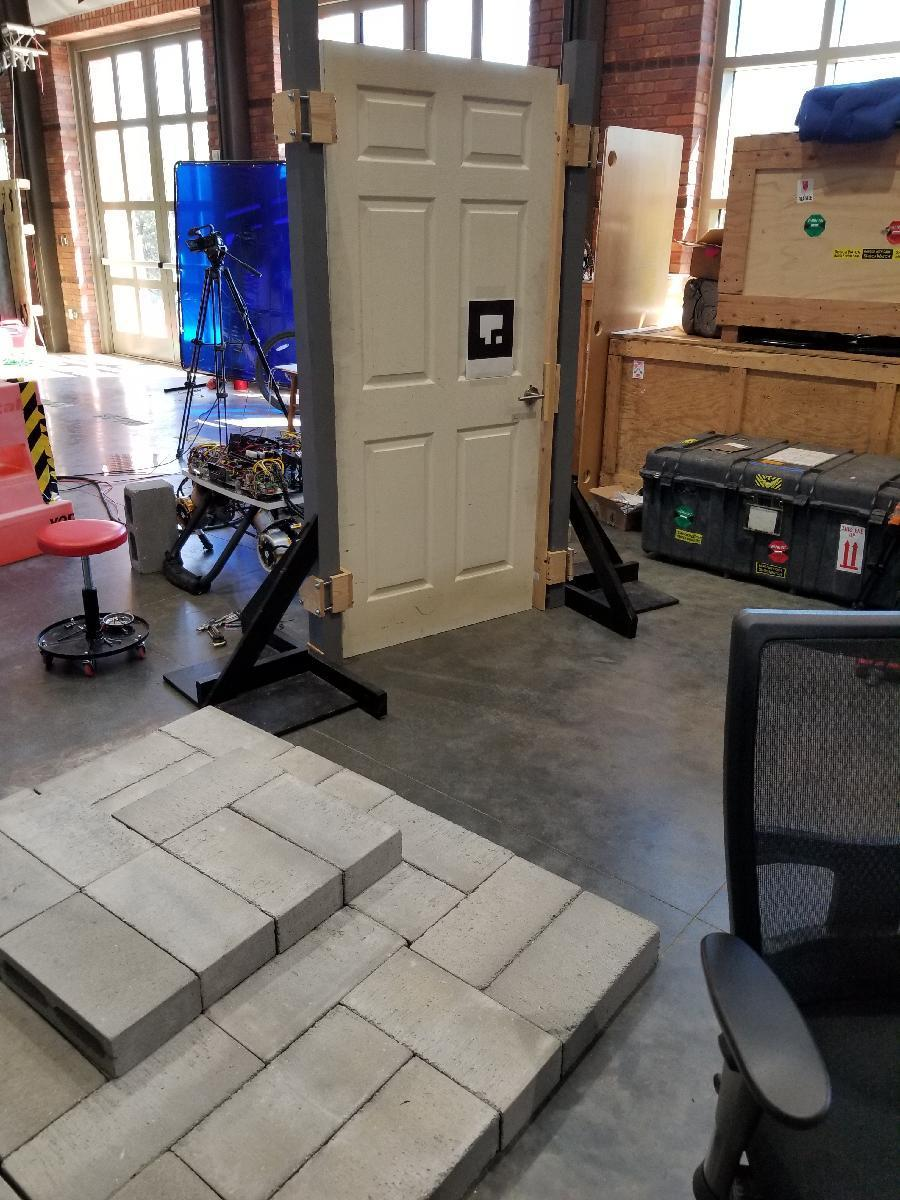door: (316, 53, 552, 649)
